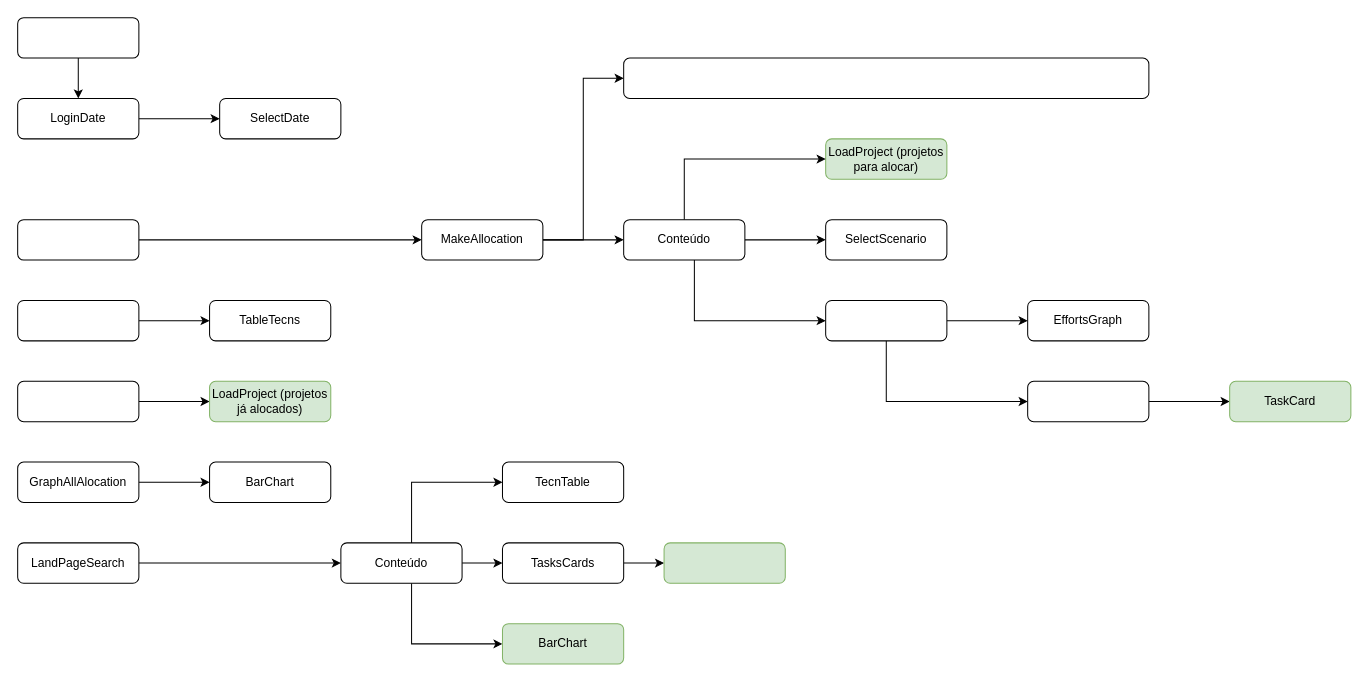
Some shapes in this 1369 by 682 pixel diagram are drawn without their labels. The shapes that lost their labels are listed below. From the top down, each one's centre as x and y in pixels, then its label:
At pixel 78 37: "Login".
At pixel 886 77: "Stepper o-o-o-o".
At pixel 78 239: "SelectDate (para alocar)".
At pixel 78 320: "LoadTecns".
At pixel 886 320: "ScenarioGraphPage".
At pixel 78 401: "SelectDate (já alocados)".
At pixel 1088 401: "SearchTecn".
At pixel 724 562: "TaskCards".
